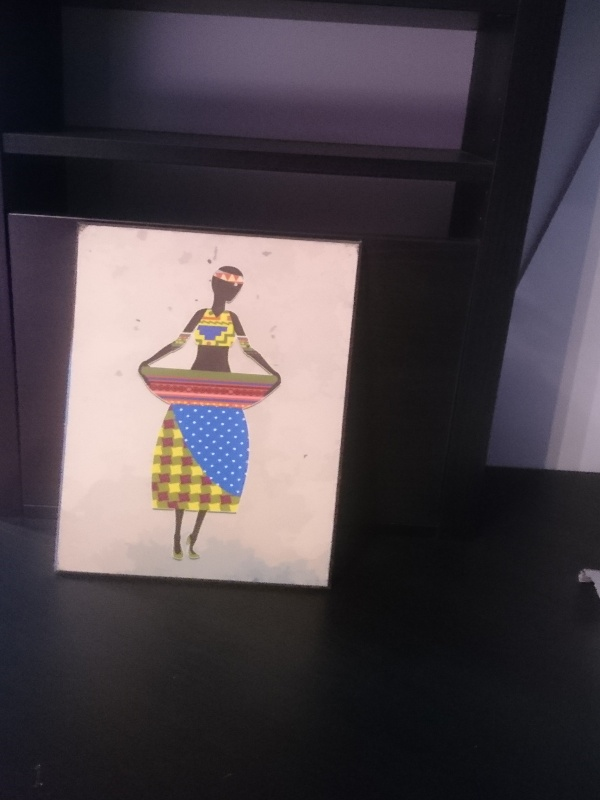my image: (55, 225, 363, 586)
